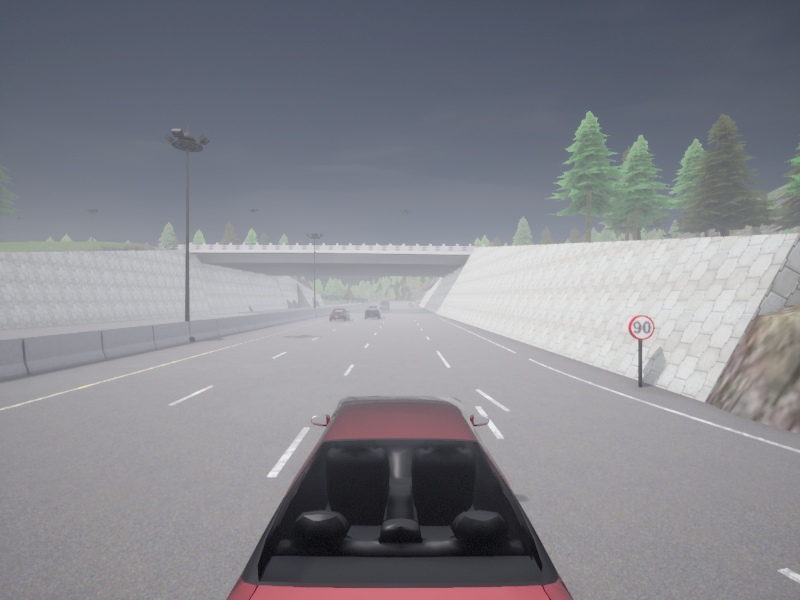vehicle: (226, 396, 573, 599), (328, 308, 350, 320), (365, 306, 380, 318), (380, 299, 389, 309), (408, 303, 412, 306)
